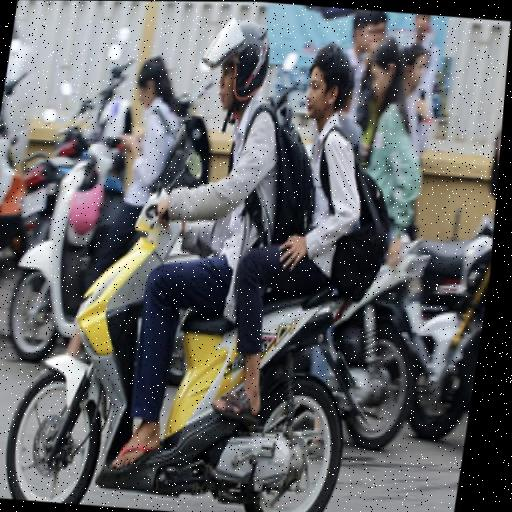Helmet: (192, 4, 282, 113)
Motor: (7, 177, 390, 512)
